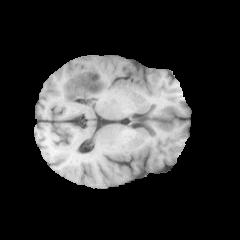glioma: (61, 64, 108, 103)
